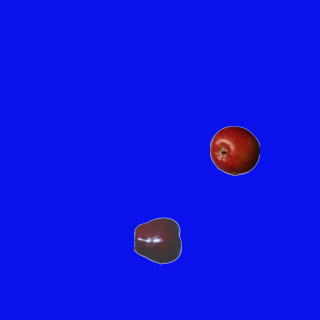Apple Braeburn: (209, 125, 259, 175)
Apple Red Delicious: (133, 215, 183, 265)
